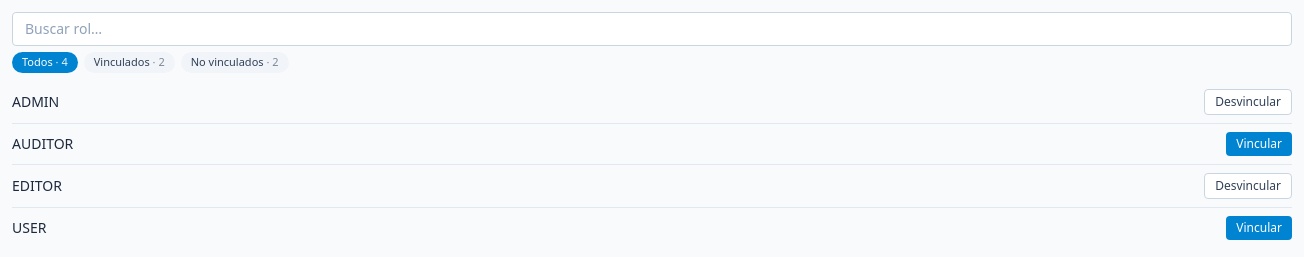
Test case: BindingTab › tier 1 toolbar › shows 'Sin coincidencias' when the filter narrows to zero rows
Type "zzzz" into the search field with test id "role-toggle-search" at (652, 29), box [12, 12, 1292, 46]
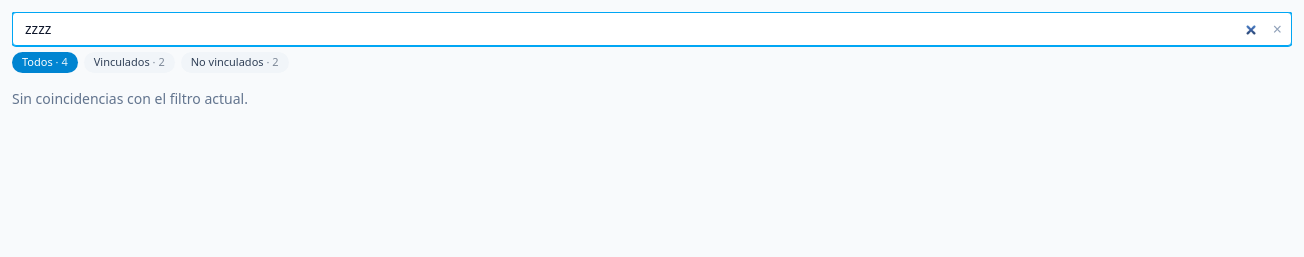
Check: the list item with test id "role-toggle-empty" reads "Sin coincidencias con el filtro actual.", box [12, 88, 248, 108]
